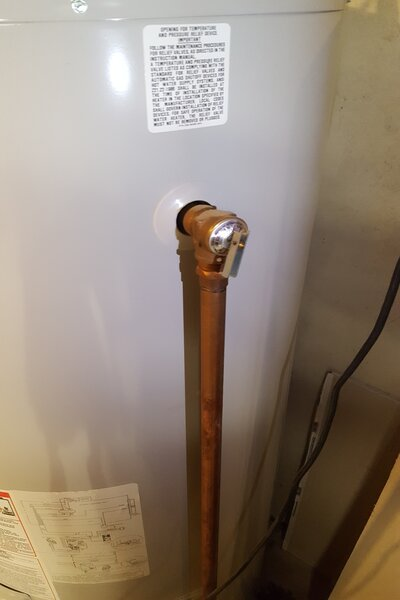valve: (174, 199, 249, 301)
